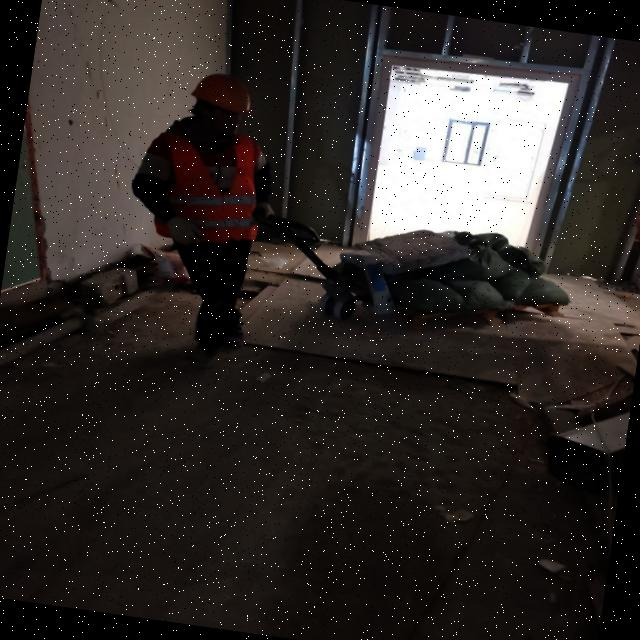Helmet: (189, 71, 257, 126)
Jacket: (151, 114, 266, 254)
